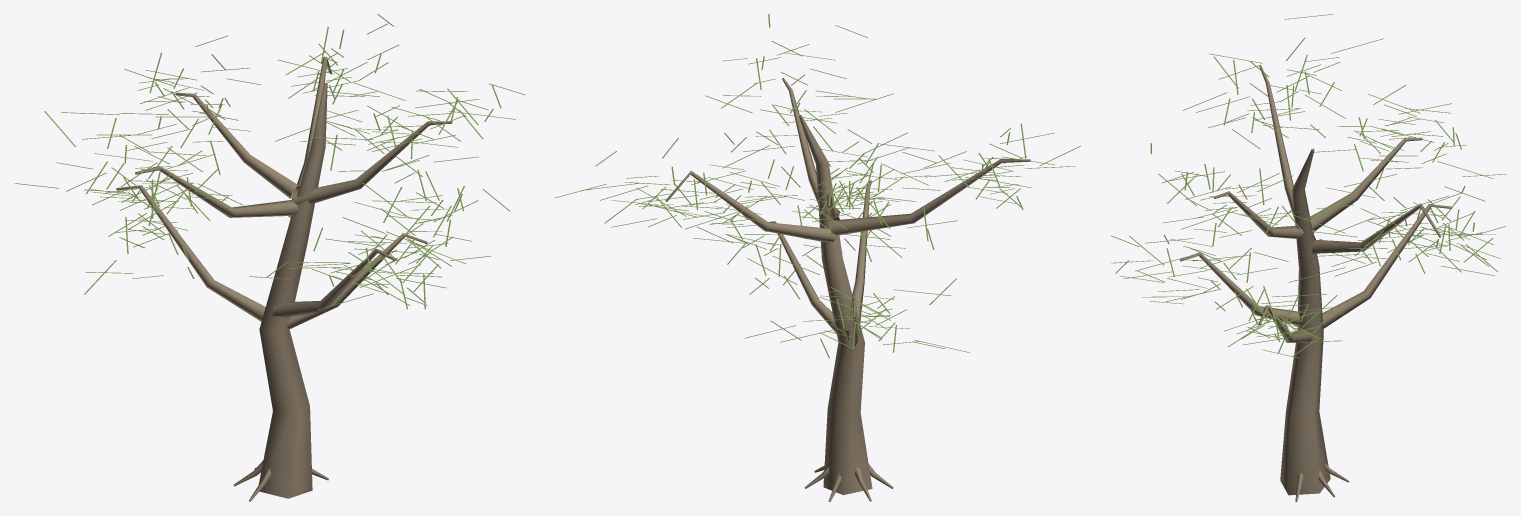
File: canopy_lod2.glb
3 views of the same model, side by side, from view 1: azimuth 30°, elevation 25°; view 2: azimuth 150°, elevation 25°; view 3: azimuth 270°, elevation 25° (orthographic). The views are drawn at different scales.
Parts seen in each view (by area): view 1: Bark, Leaves; view 2: Bark, Leaves; view 3: Bark, Leaves.
Boxes of the visible parts, bbox=[...] form: Bark: bbox=[116, 56, 452, 501]; Leaves: bbox=[14, 14, 525, 309]; Bark: bbox=[665, 77, 1030, 501]; Leaves: bbox=[554, 14, 1080, 358]; Bark: bbox=[1180, 65, 1451, 501]; Leaves: bbox=[1110, 14, 1506, 358].
Bounding box in the file's own units: 10.47 × 10.17 × 9.39.
